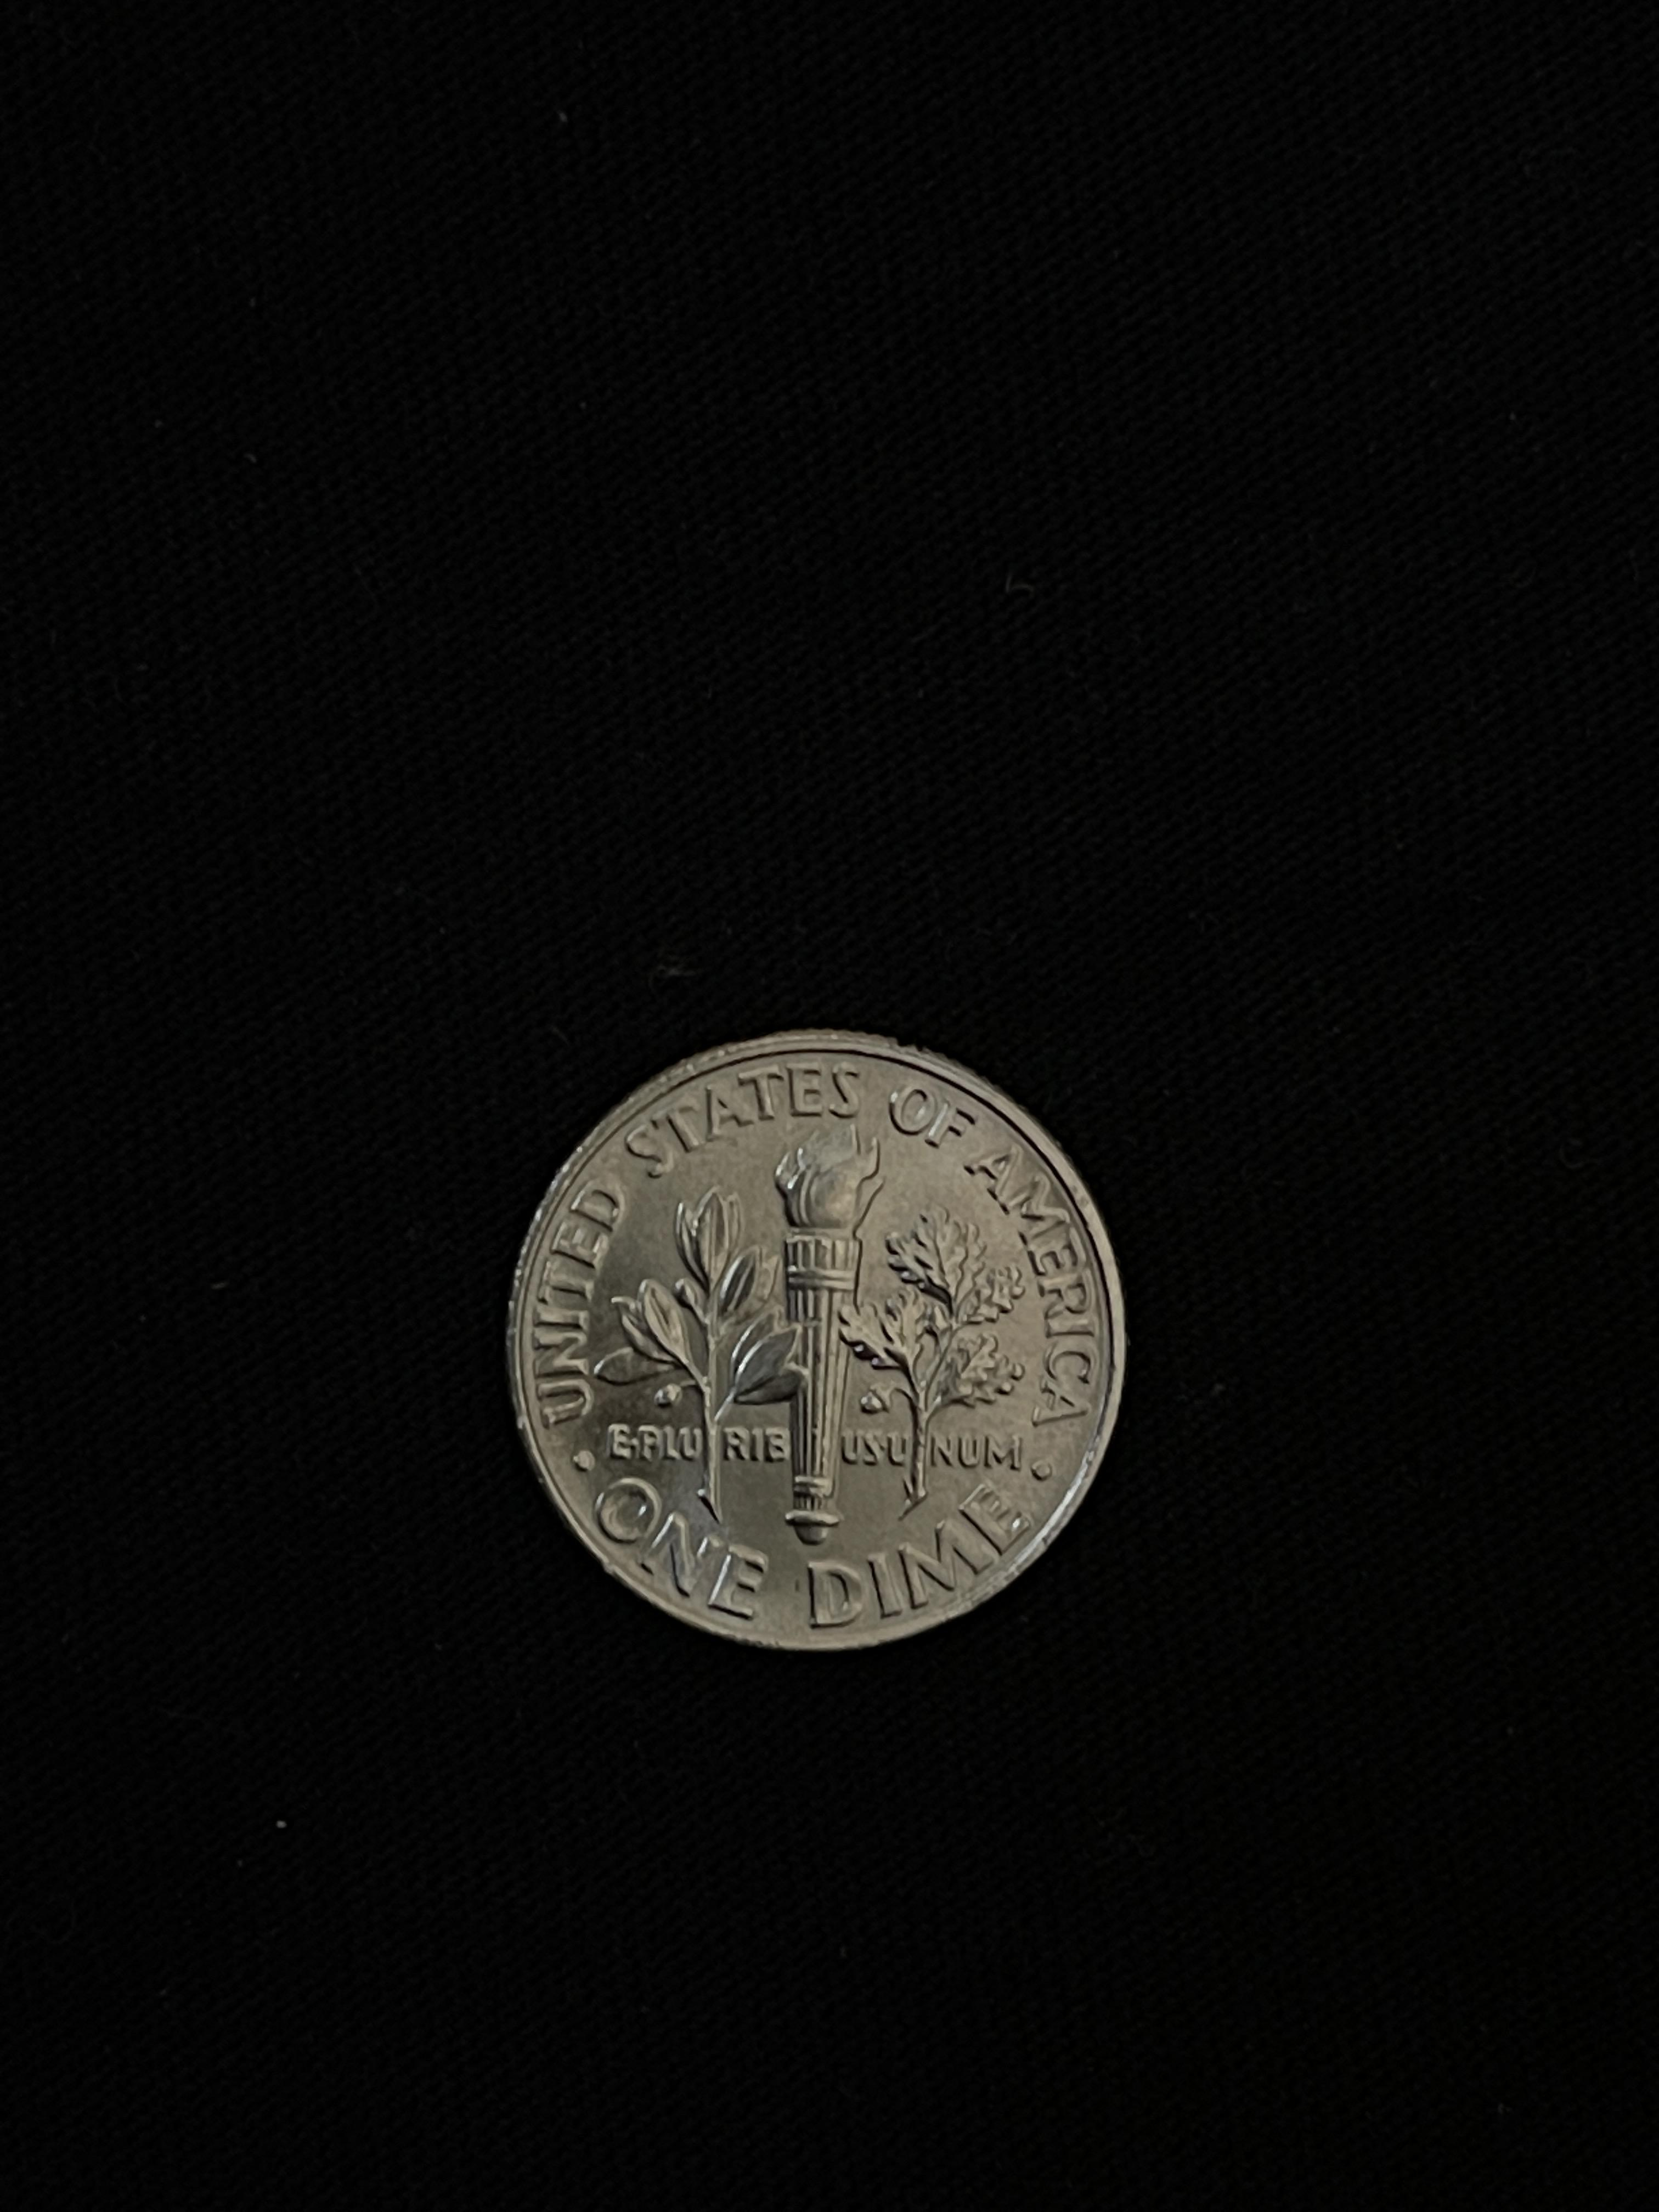Dime: (504, 1026, 1133, 1658)
